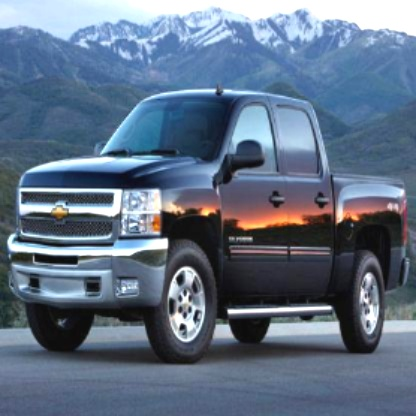Vehicle: (8, 91, 410, 365)
